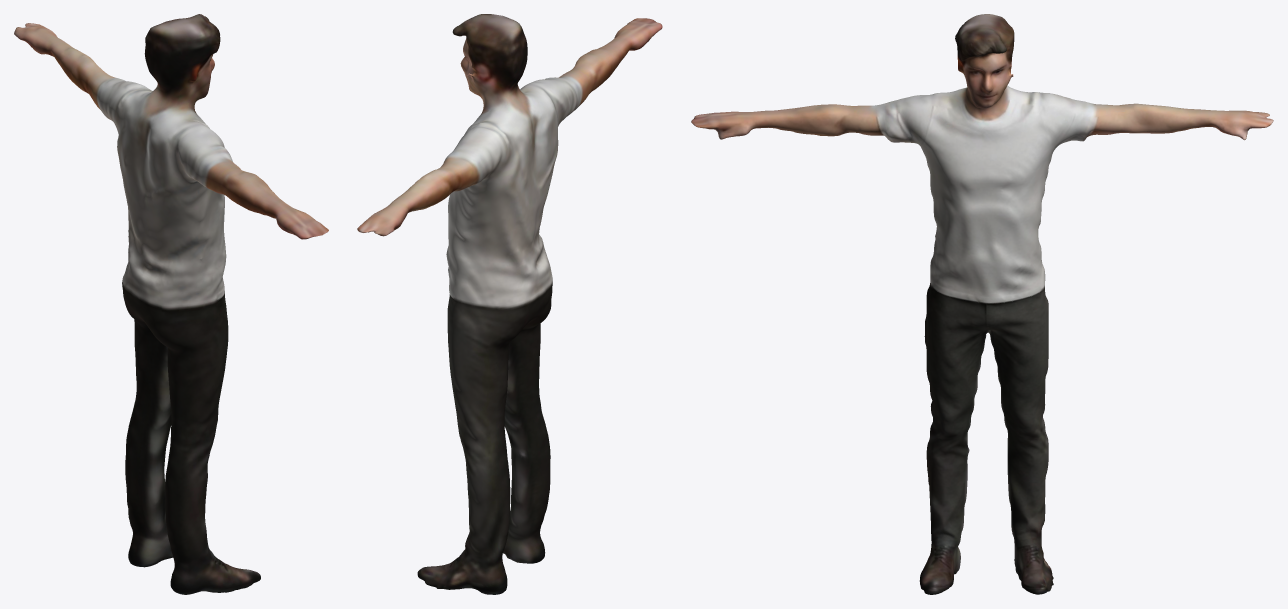
Rendered from human-male-realistic.glb.
3 views of the same model, side by side, from view 1: azimuth 30°, elevation 25°; view 2: azimuth 150°, elevation 25°; view 3: azimuth 270°, elevation 25° (orthographic).
Visible parts, largest first — view 1: tripo_node_e7a6faa2-b919-4612-86db-43dd0b6f2f4e; view 2: tripo_node_e7a6faa2-b919-4612-86db-43dd0b6f2f4e; view 3: tripo_node_e7a6faa2-b919-4612-86db-43dd0b6f2f4e.
Boxes of the visible parts, left/top/right/bottom form: tripo_node_e7a6faa2-b919-4612-86db-43dd0b6f2f4e: left=14, top=14, right=328, bottom=594; tripo_node_e7a6faa2-b919-4612-86db-43dd0b6f2f4e: left=357, top=14, right=662, bottom=594; tripo_node_e7a6faa2-b919-4612-86db-43dd0b6f2f4e: left=691, top=14, right=1273, bottom=594.
Bounding box in the file's own units: 0.145 × 0.7802 × 0.7438.
1 material, 1 textured.
